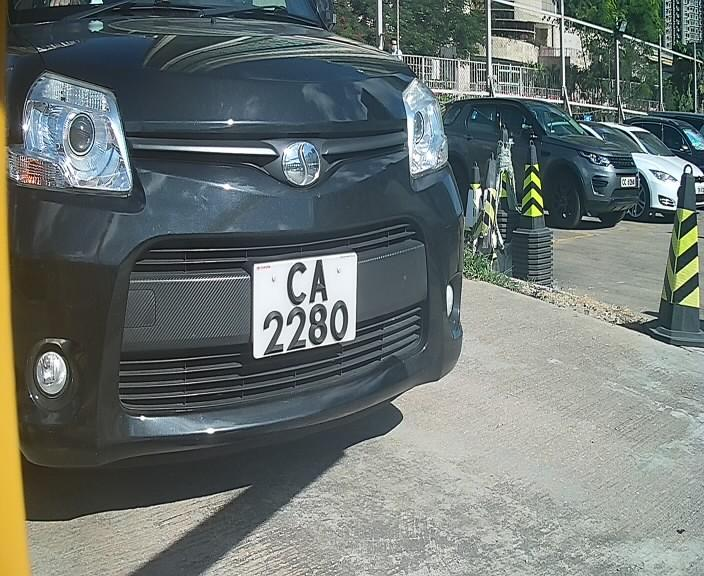privatecar: (1, 13, 478, 461)
